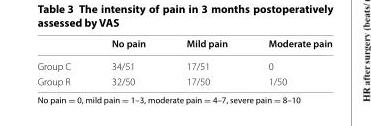table: (36, 36, 331, 86)
table column: (247, 36, 331, 86), (165, 36, 247, 86), (90, 36, 165, 86), (36, 36, 90, 86)
table column header: (36, 36, 331, 54)
table row: (36, 54, 331, 73), (36, 36, 331, 54), (36, 73, 331, 86)
